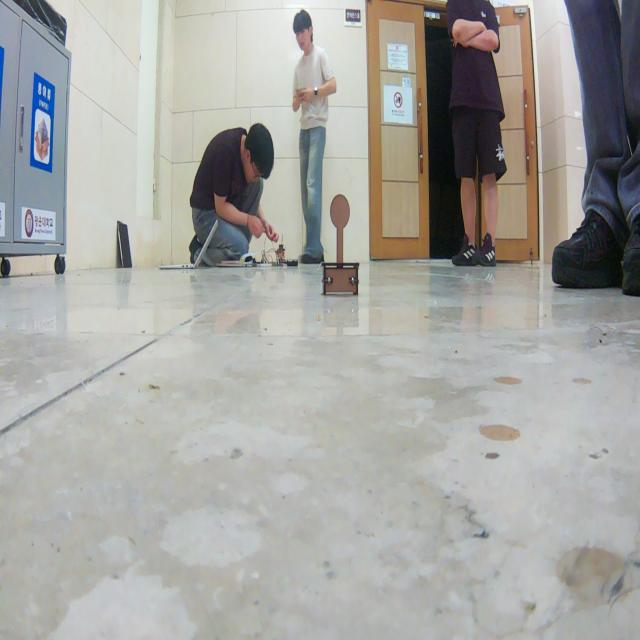target: (321, 194, 360, 295)
